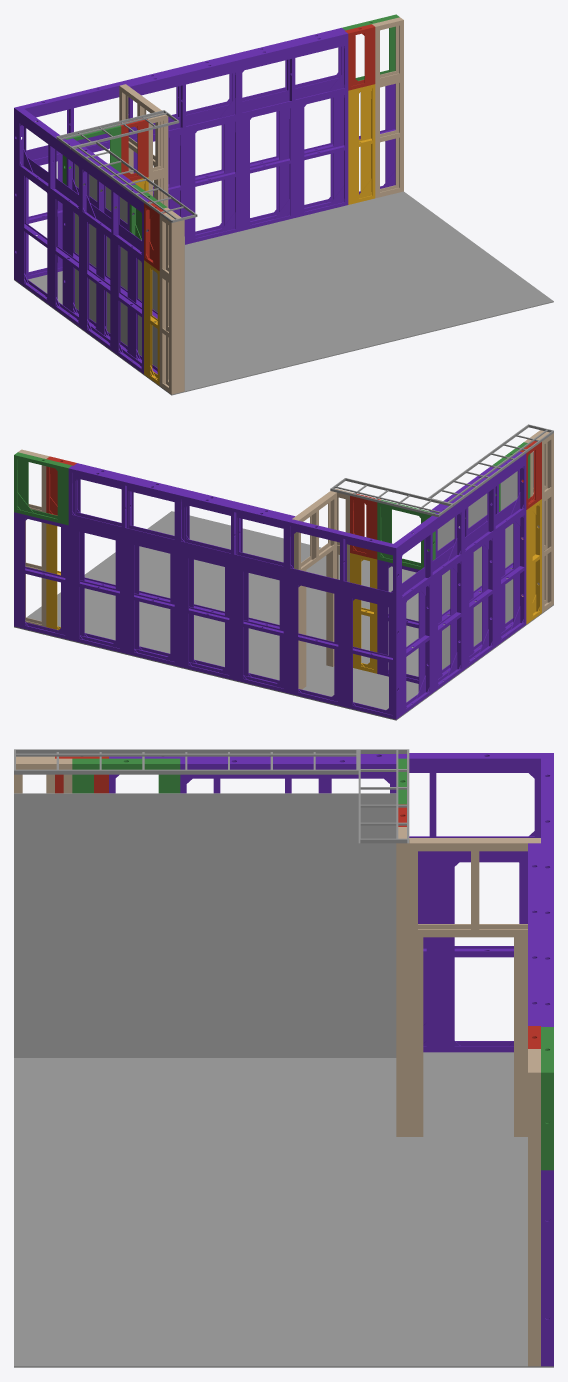
3 views of the same model, one above another, from view 1: azimuth 30°, elevation 25°; view 2: azimuth 150°, elevation 25°; view 3: azimuth 270°, elevation 25° (orthographic). The views are drawn at different scales.
Visible parts, largest first — view 1: Пол 16 мм, Body18 (×16), Body17 (×8), Лист МДФ 1, Body23 (×3), Body2 (×2), Лист МДФ 2, Торец 2 (×2), Body22, Стойка 4, Стойка 2; view 2: Body18 (×26), Пол 16 мм, Body17 (×16), Body22 (×12), Body15 (×10), Body23 (×3), Лист МДФ 1, Лист МДФ 2, Панель 1 (×2), Body1 (×2), Труба 40x20x2 1 (×2), Труба 40x20x2 2 (×2) (+7 smaller); view 3: Пол 16 мм, Лист МДФ 2, Лист МДФ 1, Торец 2 (×4), Панель 2 (×2), Body15 (×5), Body17 (×2), Body16 (×3), Body18 (×4), Body23 (×3), Труба 40x20x2 2, Труба 40x20x2 1 (+4 smaller).
Boxes of the visible parts, x1,y1,x2,y2 form: Пол 16 мм: (14, 191, 553, 395); Body18 (×16): (17, 78, 395, 358); Body17 (×8): (21, 34, 344, 250); Лист МДФ 1: (75, 164, 125, 343); Body23 (×3): (144, 91, 371, 375); Body2 (×2): (137, 27, 375, 179); Лист МДФ 2: (125, 201, 184, 390); Торец 2 (×2): (172, 277, 183, 394); Body22: (348, 91, 358, 201); Стойка 4: (399, 81, 403, 187); Стойка 2: (375, 87, 379, 193); Body18 (×26): (14, 455, 524, 713); Пол 16 мм: (14, 511, 553, 720); Body17 (×16): (61, 466, 519, 713); Body22 (×12): (65, 469, 526, 716); Body15 (×10): (69, 463, 523, 718); Body23 (×3): (46, 509, 532, 666); Лист МДФ 1: (437, 497, 481, 669); Лист МДФ 2: (481, 452, 533, 640); Панель 1 (×2): (298, 570, 306, 689); Body1 (×2): (366, 442, 541, 559); Труба 40x20x2 1 (×2): (330, 430, 553, 517); Труба 40x20x2 2 (×2): (345, 424, 528, 506); Пол 16 мм: (14, 1052, 553, 1367); Лист МДФ 2: (14, 793, 216, 1057); Лист МДФ 1: (217, 793, 396, 1057); Торец 2 (×4): (397, 843, 539, 1366); Панель 2 (×2): (409, 937, 527, 1136); Body15 (×5): (529, 753, 552, 1026); Body17 (×2): (409, 836, 534, 1046); Body16 (×3): (180, 753, 552, 1366); Body18 (×4): (72, 753, 534, 1024); Body23 (×3): (187, 758, 534, 1046); Труба 40x20x2 2: (14, 769, 358, 774); Труба 40x20x2 1: (14, 749, 358, 753).
Bounding box in the file's own units: 7 × 3.06 × 5.
